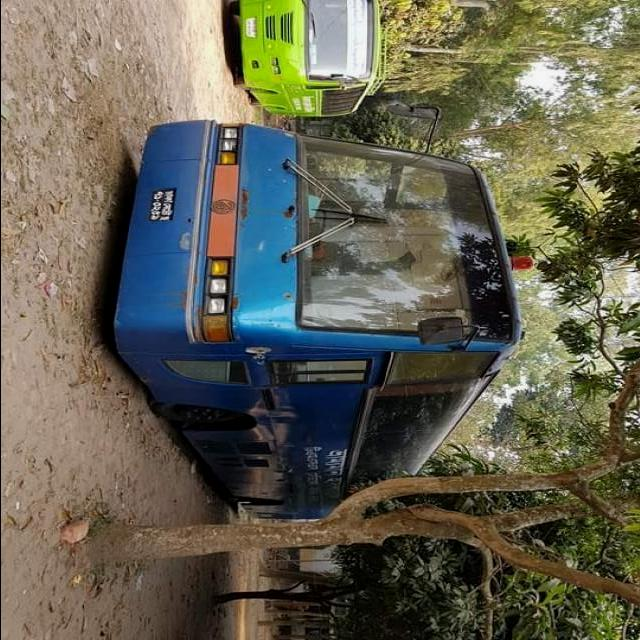bus: (107, 106, 534, 523)
